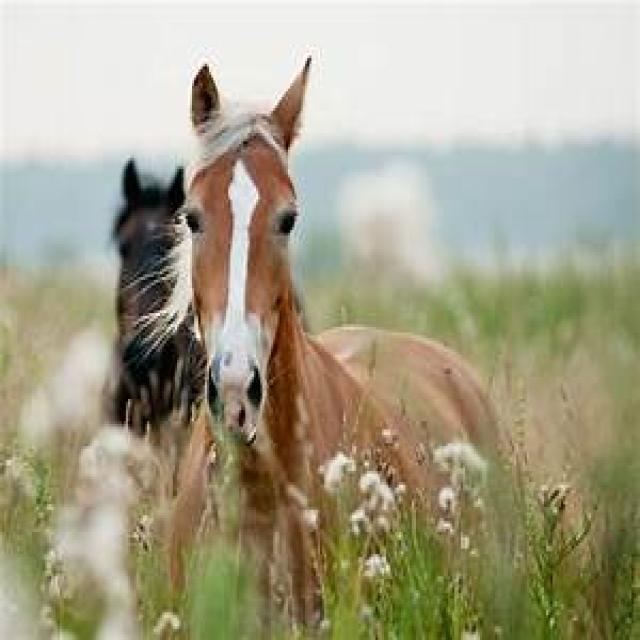horse: (168, 60, 504, 634)
